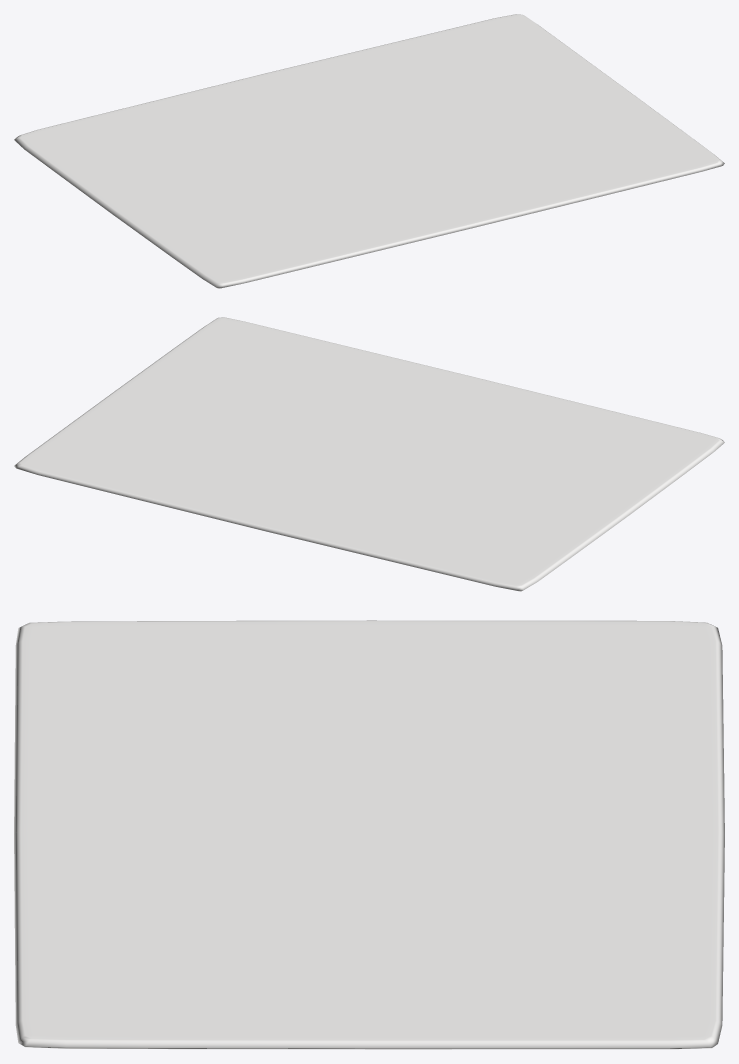
Rendered from P_RugLargeSolid.glb.
The picture shows the model from 3 angles, top to bottom: view 1: azimuth 30°, elevation 25°; view 2: azimuth 150°, elevation 25°; view 3: azimuth 270°, elevation 25°; orthographic projection. The views are drawn at different scales.
Parts seen in each view (by area): view 1: P_RugLargeSolid; view 2: P_RugLargeSolid; view 3: P_RugLargeSolid.
Part boxes in pixels (box(x1,y1,x2,y2)): P_RugLargeSolid: box(14, 14, 724, 288); P_RugLargeSolid: box(14, 317, 724, 591); P_RugLargeSolid: box(14, 620, 724, 1049).
Size of the model in its own units: 5 by 0.0405 by 3.53.
1 material, 1 textured.
